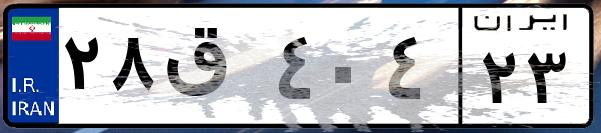0: (330, 28, 385, 110)
2: (57, 26, 110, 100), (475, 38, 525, 113)
3: (525, 38, 570, 115)
4: (270, 28, 330, 110), (385, 28, 445, 110)
8: (110, 28, 158, 98)
ق: (158, 20, 270, 120)
